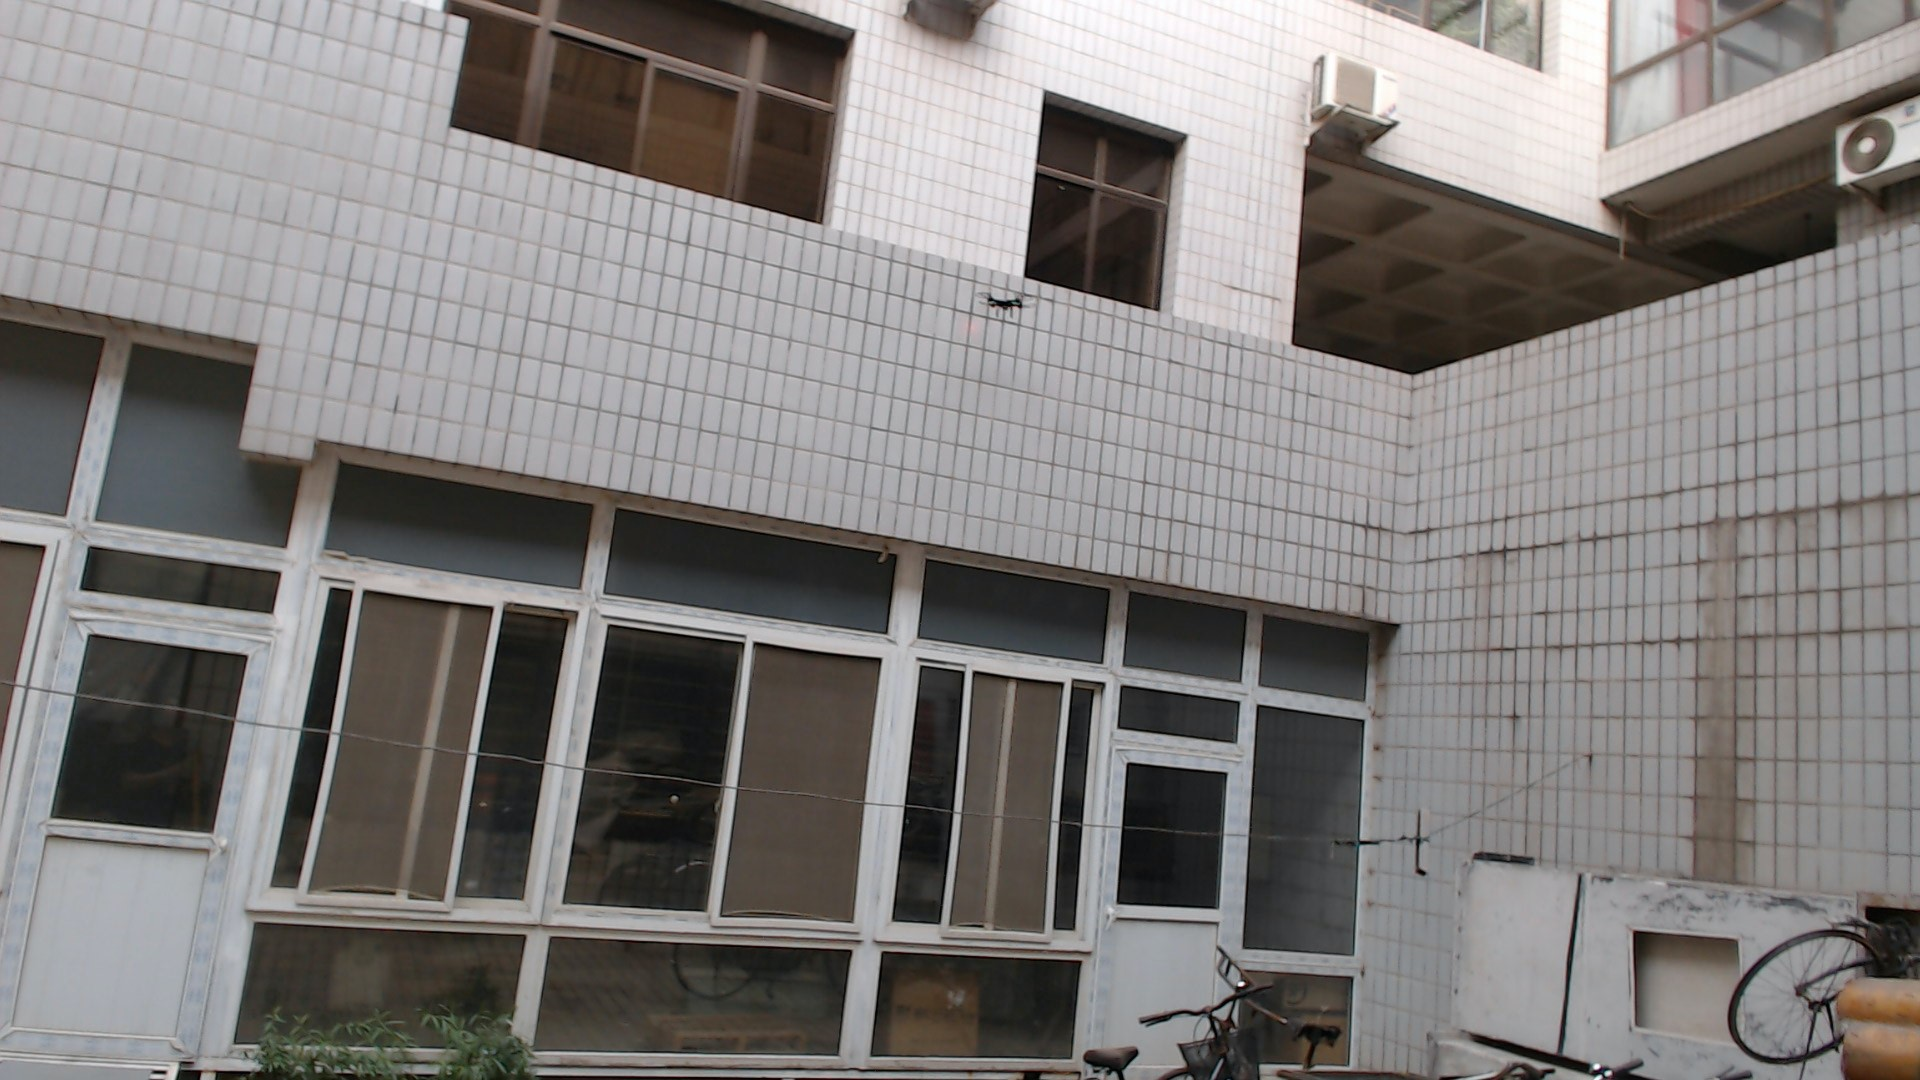drone: (975, 290, 1033, 320)
